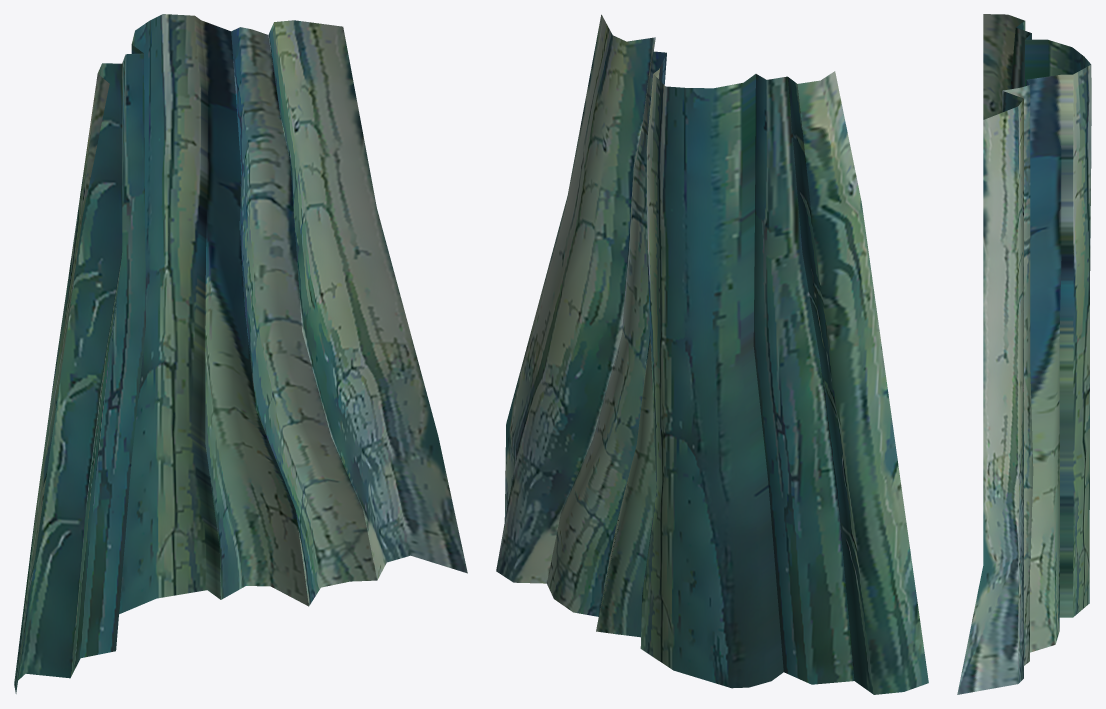
File: geo_wall.fbx
3 views of the same model, side by side, from view 1: azimuth 30°, elevation 25°; view 2: azimuth 150°, elevation 25°; view 3: azimuth 270°, elevation 25° (orthographic). The views are drawn at different scales.
Visible parts, largest first — view 1: Plane.008; view 2: Plane.008; view 3: Plane.008.
Boxes of the visible parts, <box> form: Plane.008: <box>14,14,467,693</box>; Plane.008: <box>496,14,928,694</box>; Plane.008: <box>957,14,1091,694</box>.
Bounding box in the file's own units: 2722 × 3534 × 778.
